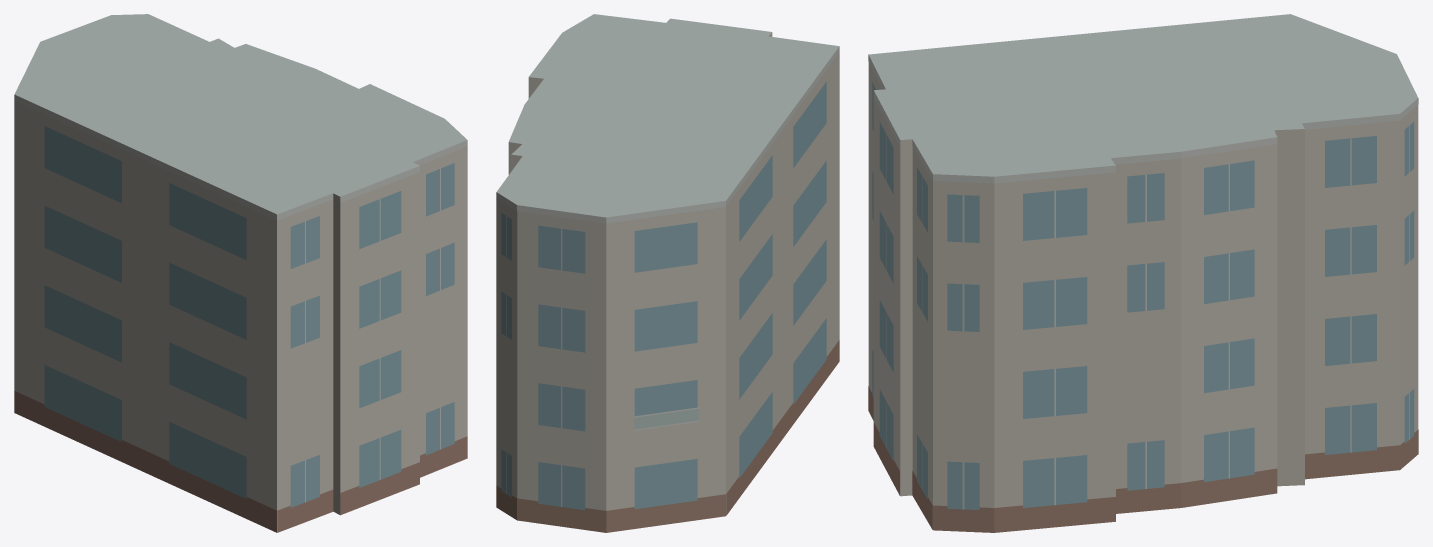
Rendered from survey-upis-32613356.glb.
3 renders of one model, left to right at view 1: azimuth 30°, elevation 25°; view 2: azimuth 150°, elevation 25°; view 3: azimuth 270°, elevation 25°, orthographic. The views are drawn at different scales.
Parts seen in each view (by area): view 1: survey-upis-32613356.tmp; view 2: survey-upis-32613356.tmp; view 3: survey-upis-32613356.tmp.
Part boxes in pixels (x1,y1,x2,y2): survey-upis-32613356.tmp: (14,14,467,532); survey-upis-32613356.tmp: (496,14,839,532); survey-upis-32613356.tmp: (868,14,1418,532).
Bounding box in the file's own units: 12.51 × 12.77 × 17.87.
